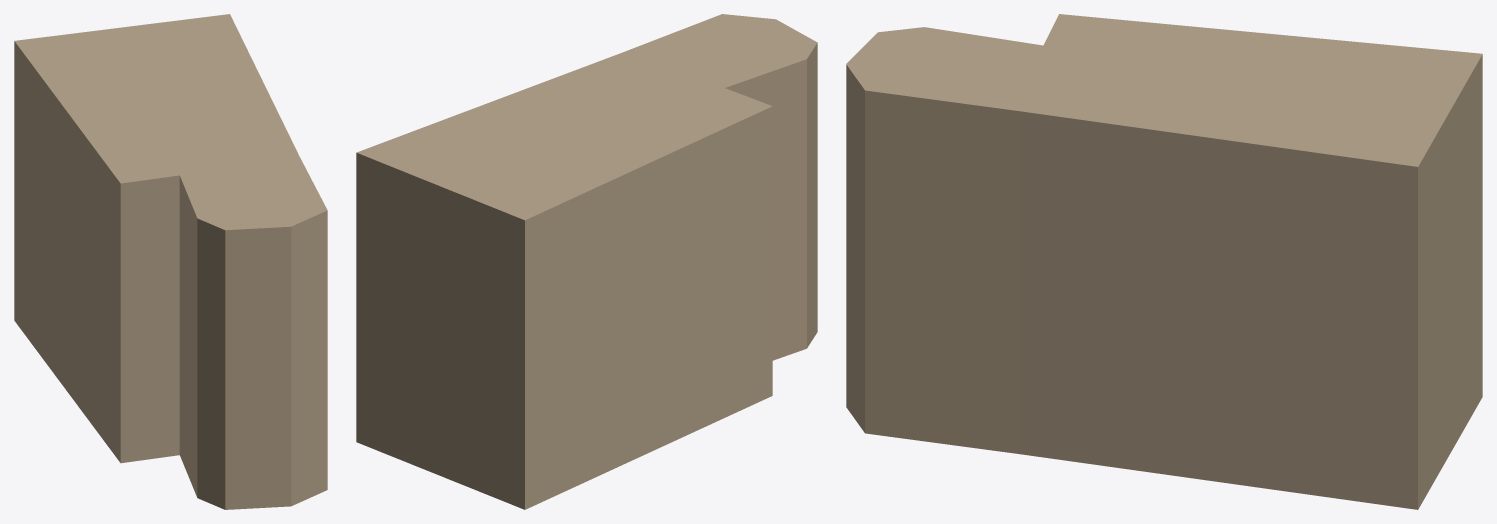
Rendered from bld_99020435.dae.
3 views of the same model, side by side, from view 1: azimuth 30°, elevation 25°; view 2: azimuth 150°, elevation 25°; view 3: azimuth 270°, elevation 25° (orthographic). The views are drawn at different scales.
Parts seen in each view (by area): view 1: bld_99020435; view 2: bld_99020435; view 3: bld_99020435.
Boxes of the visible parts, x1,y1,x2,y2 form: bld_99020435: [14, 14, 327, 509]; bld_99020435: [356, 14, 817, 509]; bld_99020435: [846, 14, 1482, 509].
Size of the model in its own units: 7.66 by 13.46 by 8.
